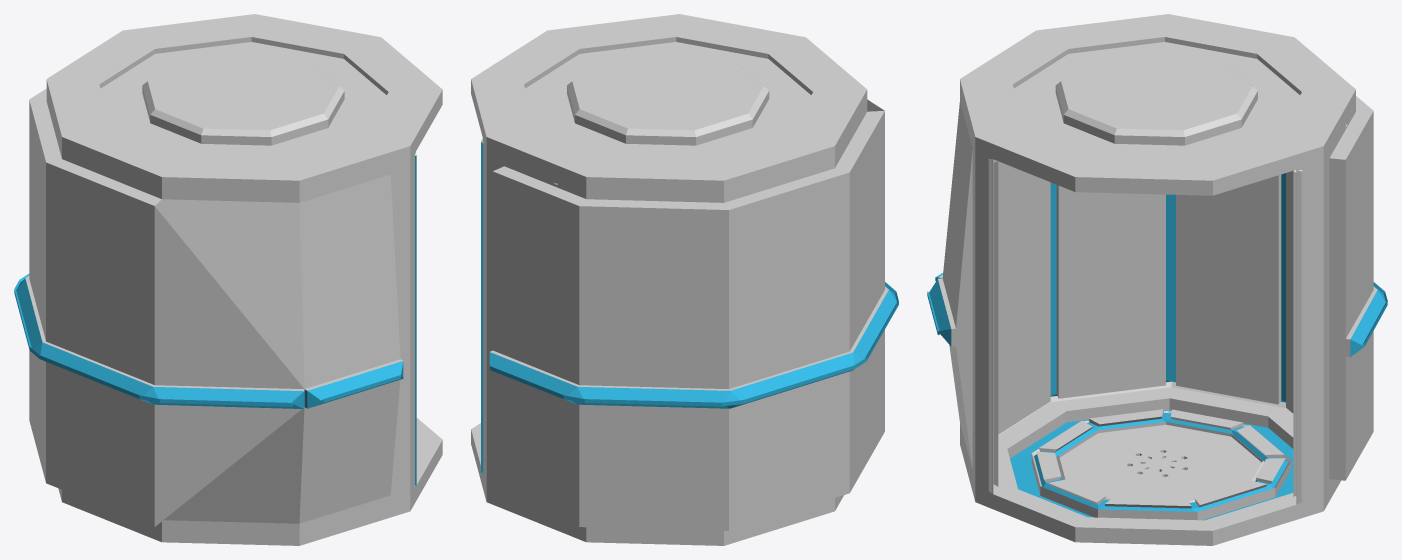
The model's file is Bath.fbx.
3 renders of one model, left to right at view 1: azimuth 30°, elevation 25°; view 2: azimuth 150°, elevation 25°; view 3: azimuth 270°, elevation 25°, orthographic.
Parts seen in each view (by area): view 1: Bath; view 2: Bath; view 3: Bath.
Part boxes in pixels (bbox=[...]): Bath: bbox=[14, 14, 442, 545]; Bath: bbox=[471, 14, 898, 545]; Bath: bbox=[927, 14, 1387, 545].
Size of the model in its own units: 645 by 625 by 698.
